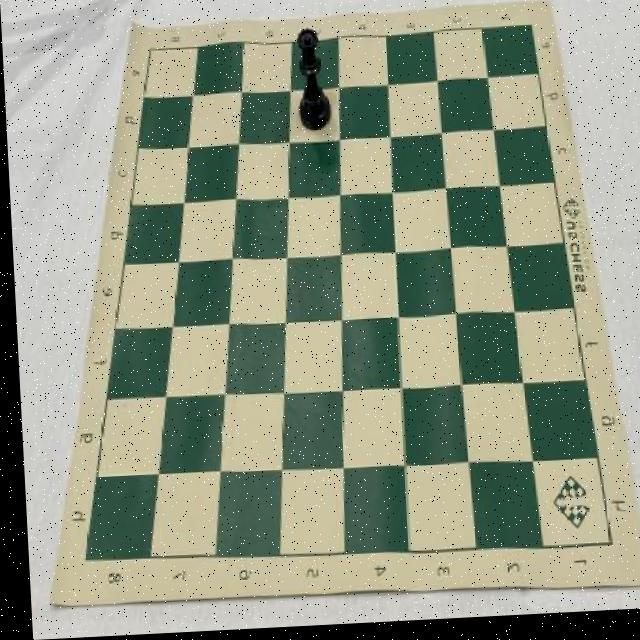black-pawn: (293, 30, 331, 136)
